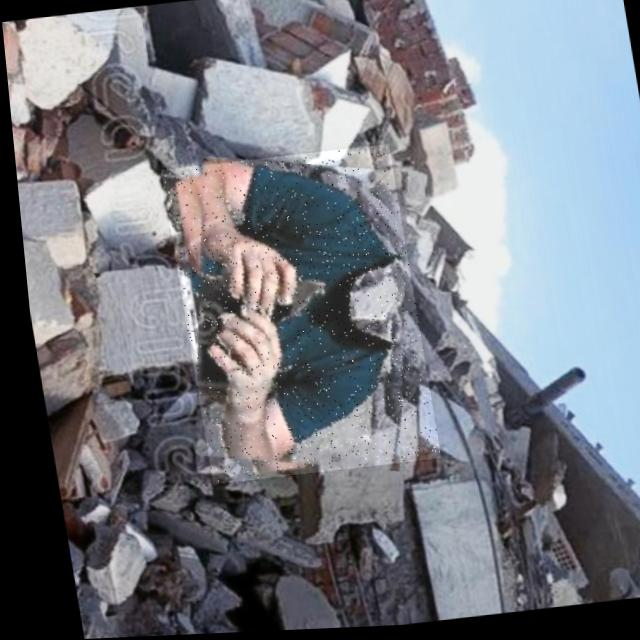Person in Rubble: (155, 146, 431, 486)
